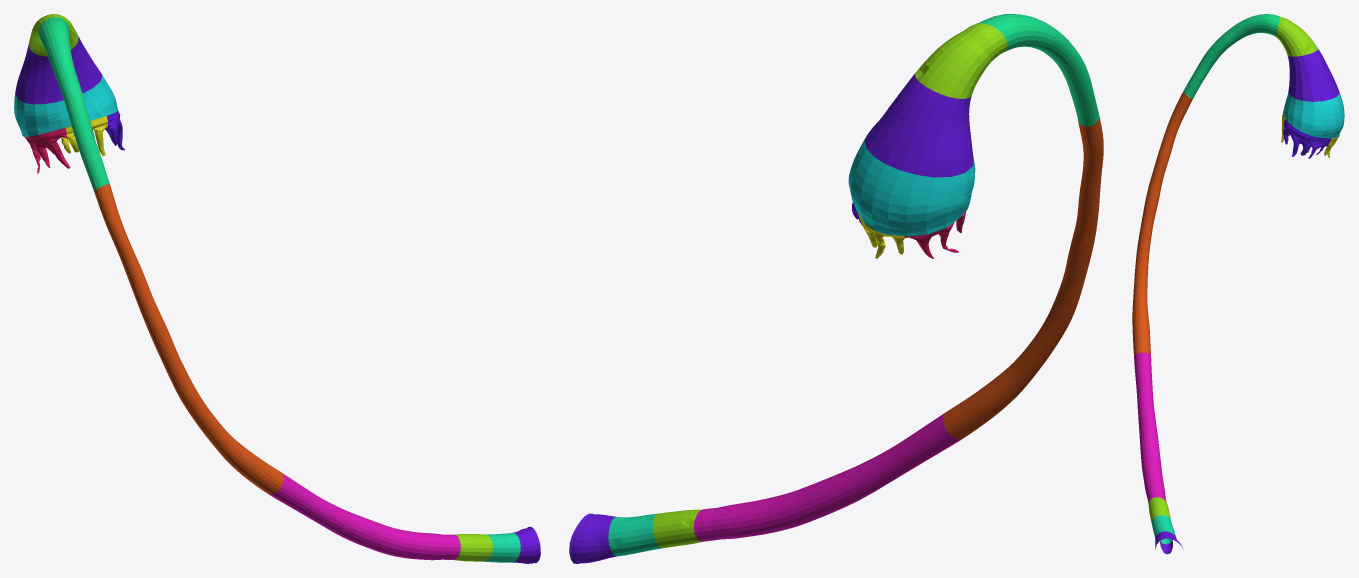
File: fallopian-tube-female-right-upenn.glb
3 views of the same model, side by side, from view 1: azimuth 30°, elevation 25°; view 2: azimuth 150°, elevation 25°; view 3: azimuth 270°, elevation 25° (orthographic). The views are drawn at different scales.
Parts seen in each view (by area): view 1: world; view 2: world; view 3: world.
Boxes of the visible parts, x1=… form: world: x1=14, y1=14, x2=540, y2=563; world: x1=569, y1=14, x2=1103, y2=563; world: x1=1132, y1=14, x2=1344, y2=554.
Bounding box in the file's own units: 0.0342 × 0.0444 × 0.0208.
